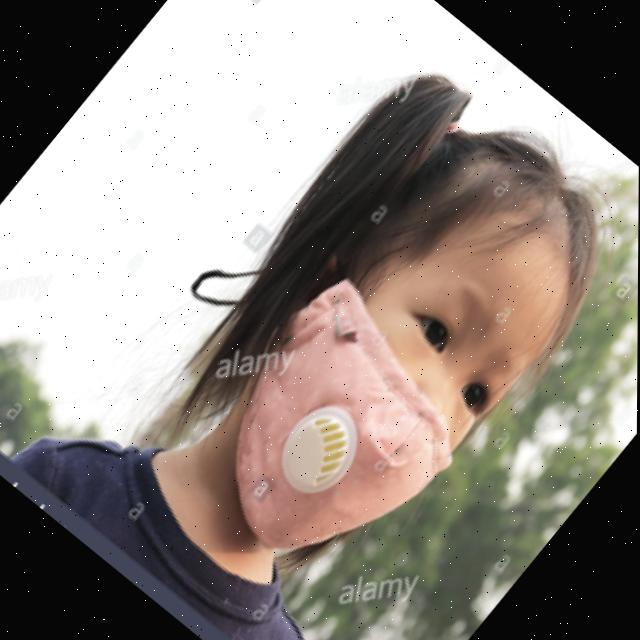Mask: (152, 251, 501, 600)
